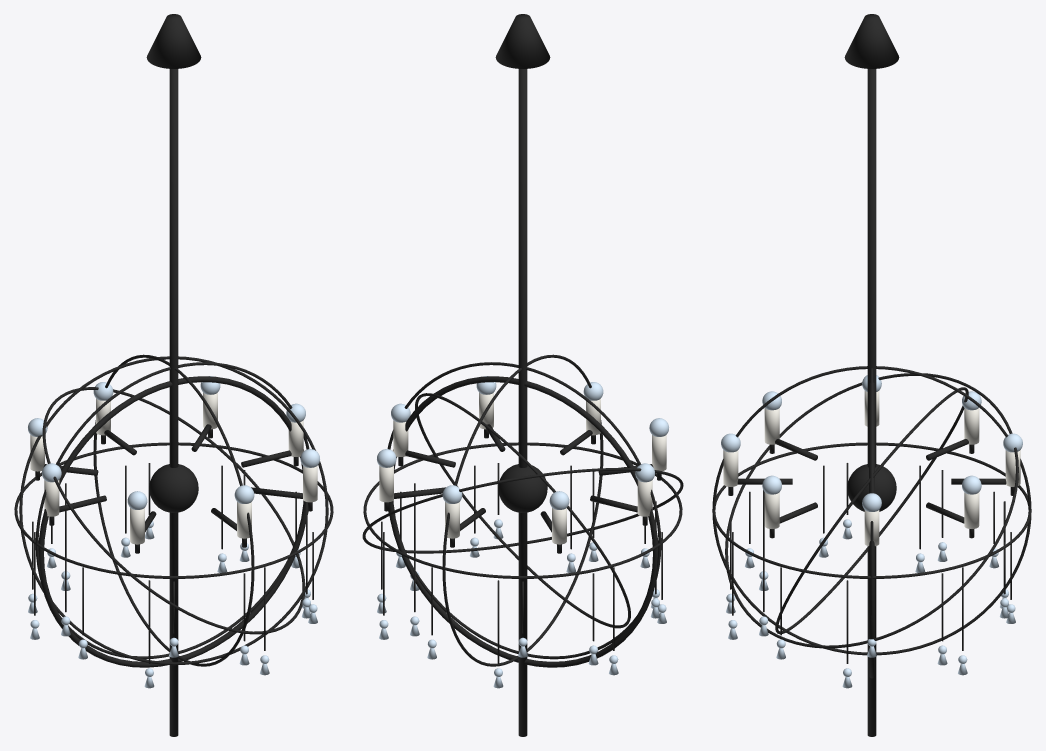
The model's file is lampu gantunggg.glb.
3 views of the same model, side by side, from view 1: azimuth 30°, elevation 25°; view 2: azimuth 150°, elevation 25°; view 3: azimuth 270°, elevation 25° (orthographic).
Parts seen in each view (by area): view 1: Rod, MainRing, Orbit_Tilt2, Orbit_Tilt1, Orbit_XZ_1, Orbit_YZ_1, Orbit_XY_1, Canopy, Hub, Candle_05, Candle_07; view 2: Rod, MainRing, Orbit_XZ_1, Orbit_YZ_1, Orbit_XY_1, Orbit_Tilt1, Canopy, Orbit_Tilt2, Hub, Candle_03, Candle_04, Candle_01; view 3: Rod, Orbit_YZ_1, Orbit_Tilt1, Orbit_XZ_1, Canopy, Orbit_Tilt2, Hub, MainRing, Orbit_XY_1, Candle_01, Candle_07, Candle_06 (+2 smaller).
Boxes of the visible parts, x1,y1,x2,y2 form: Rod: (169, 69, 178, 736); MainRing: (38, 376, 307, 667); Orbit_Tilt2: (19, 356, 328, 665); Orbit_Tilt1: (42, 387, 305, 634); Orbit_XZ_1: (14, 442, 333, 578); Orbit_YZ_1: (93, 354, 254, 666); Orbit_XY_1: (35, 362, 309, 659); Canopy: (146, 14, 201, 68); Hub: (149, 464, 198, 512); Candle_05: (130, 508, 144, 544); Candle_07: (303, 466, 317, 502); Rod: (518, 69, 527, 736); MainRing: (389, 376, 658, 667); Orbit_XZ_1: (363, 442, 682, 578); Orbit_YZ_1: (442, 354, 603, 666); Orbit_XY_1: (387, 362, 661, 659); Orbit_Tilt1: (362, 468, 683, 553); Canopy: (495, 14, 550, 68); Orbit_Tilt2: (415, 393, 630, 628); Hub: (498, 464, 547, 512); Candle_03: (552, 508, 566, 544); Candle_04: (637, 480, 652, 516); Candle_01: (379, 466, 393, 502); Rod: (867, 69, 876, 736); Orbit_YZ_1: (712, 366, 1031, 655); Orbit_Tilt1: (725, 373, 1018, 648); Orbit_XZ_1: (712, 442, 1031, 578); Canopy: (844, 14, 899, 68); Orbit_Tilt2: (775, 387, 968, 634); Hub: (847, 464, 896, 511); MainRing: (869, 382, 874, 678); Orbit_XY_1: (870, 368, 873, 615); Candle_01: (964, 492, 979, 528); Candle_07: (764, 492, 779, 528); Candle_06: (723, 450, 738, 486).
Size of the model in its own units: 1.29 by 3.2 by 1.29.
